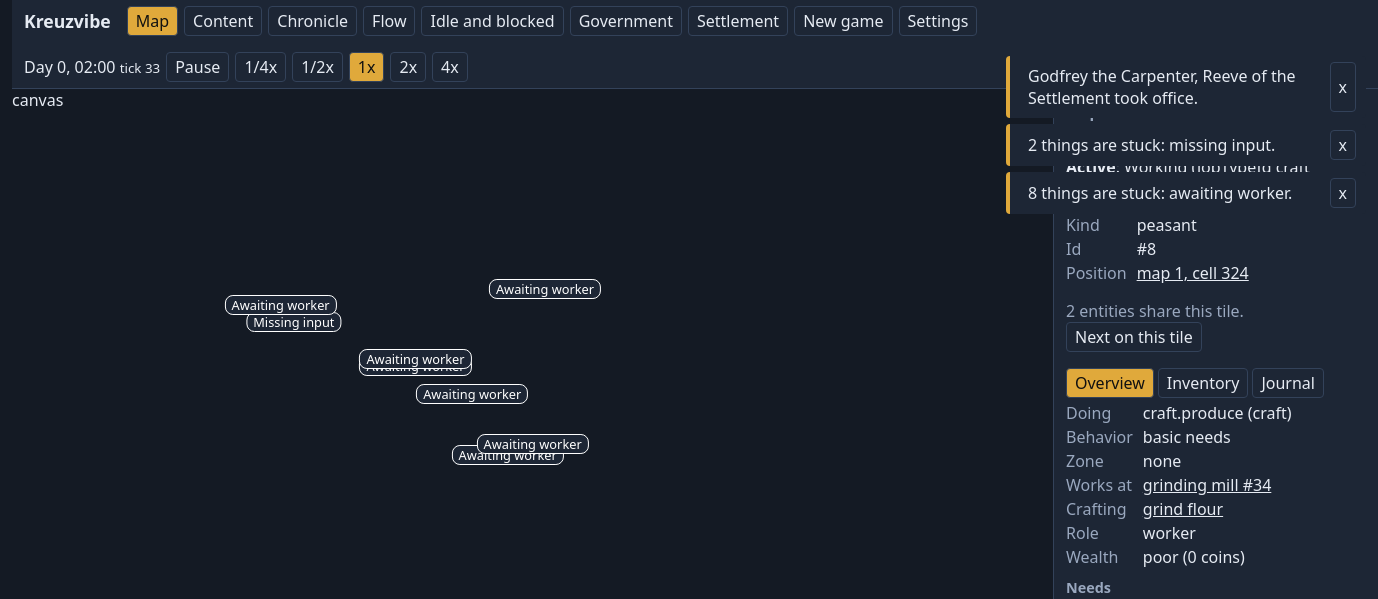
citizen to recipe › reaches a recipe of the content browser in at most three clicks
Click the button "grinding mill #34" at [1207, 485], box [1143,474,1271,496]
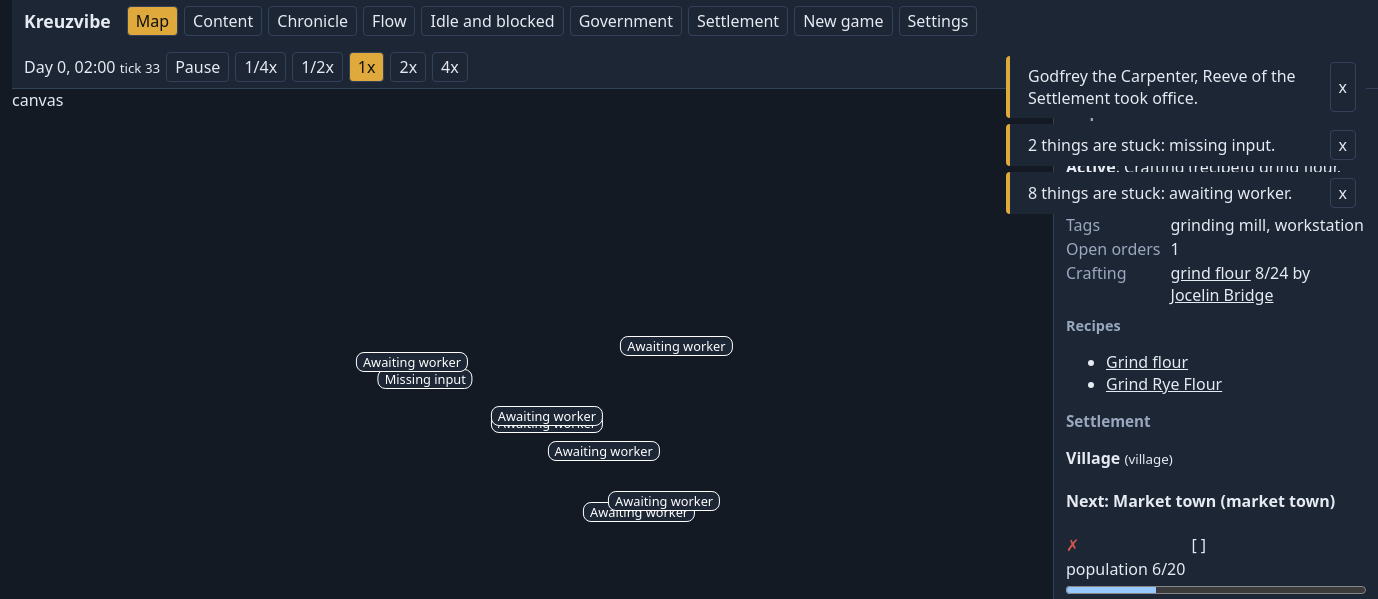
Click the button "grind flour" at [1211, 273], box [1170,262,1251,284]
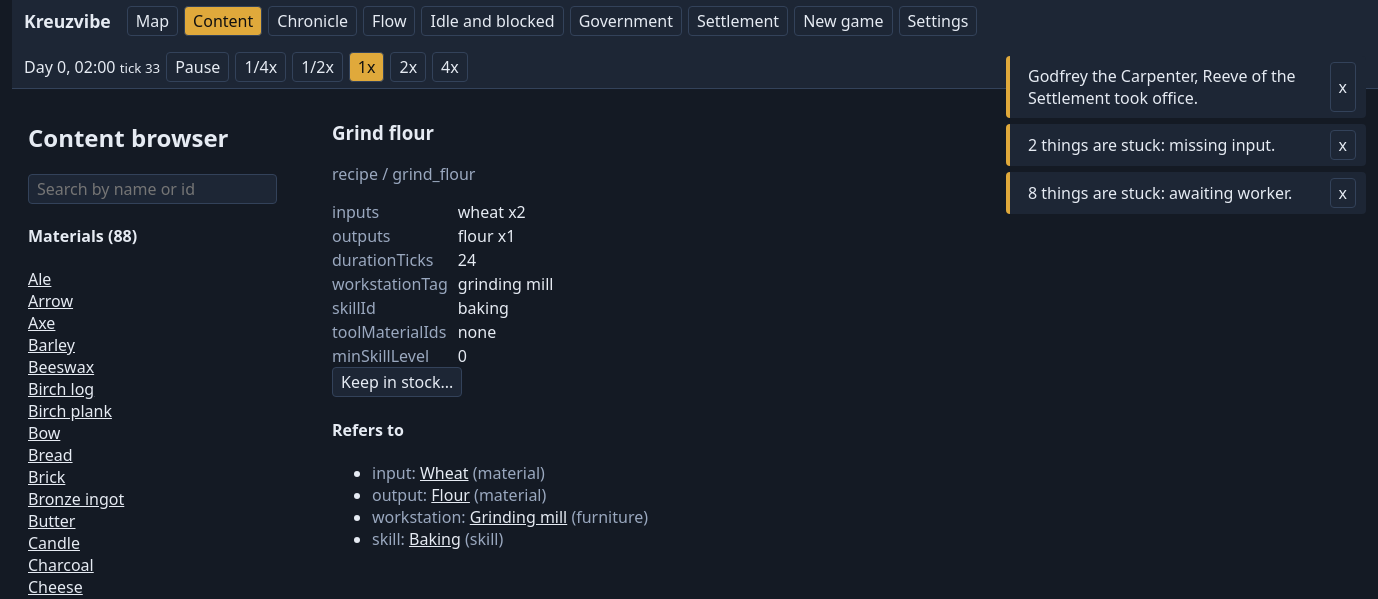
Result: the element "Grind flour" is shown at [332,120,648,550]
